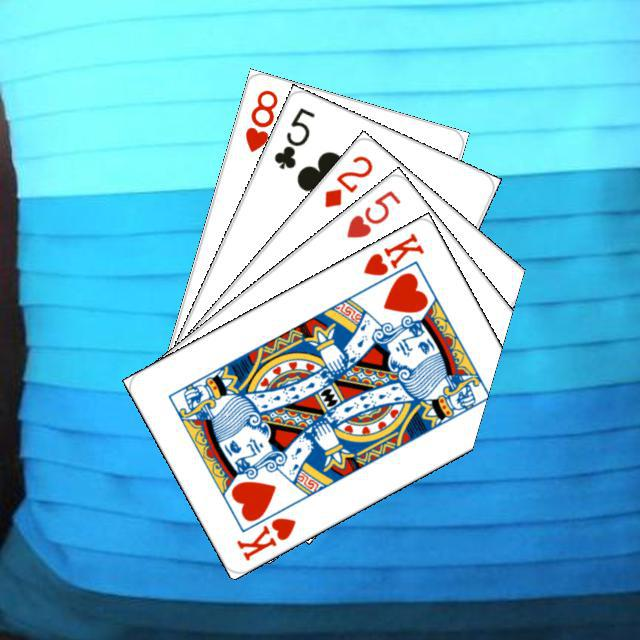2d: (319, 150, 375, 210)
5c: (269, 102, 317, 171)
5h: (341, 185, 403, 241)
8h: (240, 84, 280, 154)
Kh: (358, 228, 426, 292), (231, 512, 298, 563)
